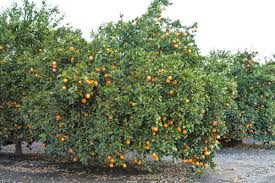orange: (168, 90, 174, 96)
